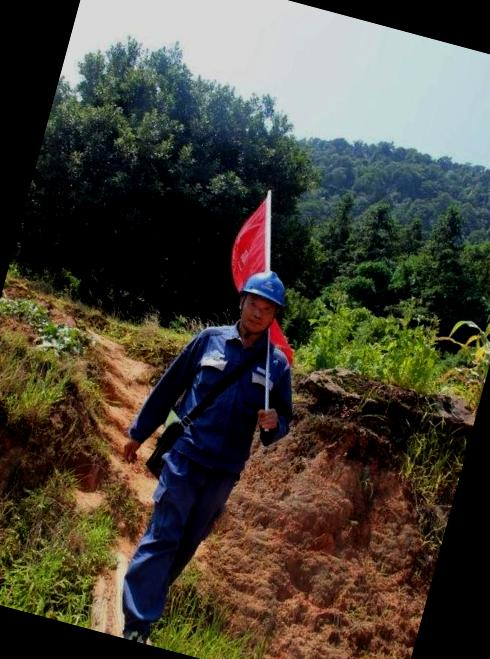helmet: (238, 264, 297, 309)
no_vest: (161, 324, 286, 478)
person: (95, 249, 319, 659)
